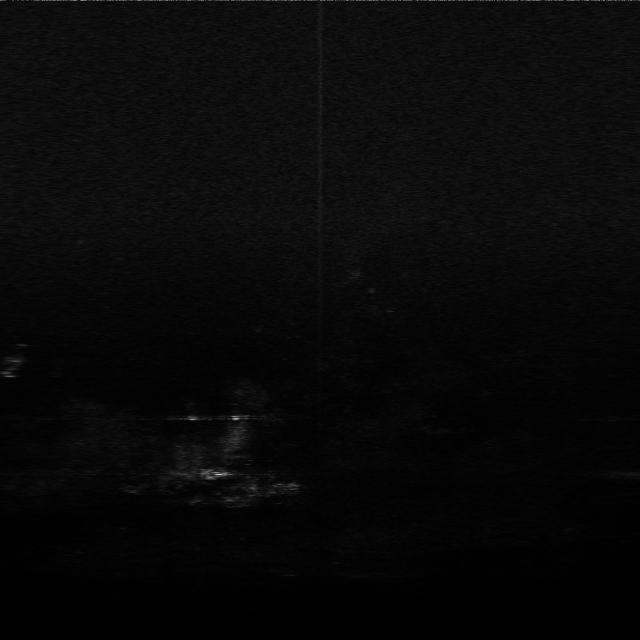rov: (191, 465, 237, 484)
